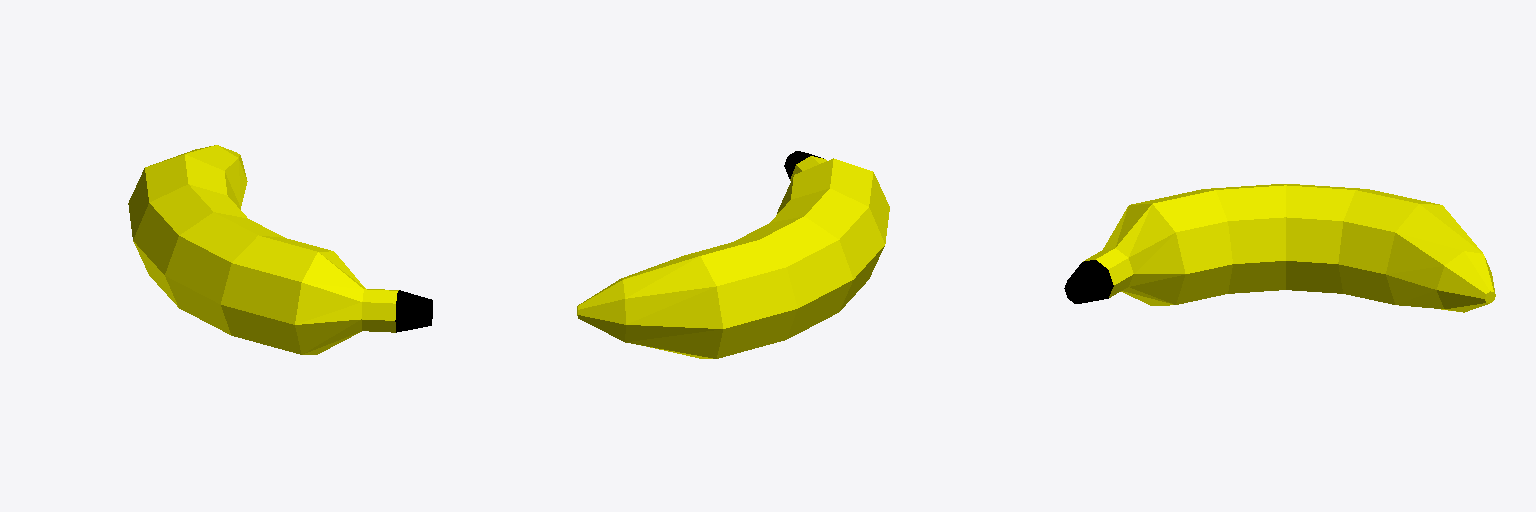
The model's file is Banana.obj.
The picture shows the model from 3 angles: view 1: azimuth 30°, elevation 25°; view 2: azimuth 150°, elevation 25°; view 3: azimuth 270°, elevation 25°; orthographic projection.
Visible parts, largest first — view 1: GuciBanan; view 2: GuciBanan; view 3: GuciBanan.
Part boxes in pixels (bbox=[...]): GuciBanan: bbox=[128, 145, 432, 354]; GuciBanan: bbox=[577, 151, 889, 358]; GuciBanan: bbox=[1064, 184, 1495, 312].
Size of the model in its own units: 0.3152 by 0.175 by 0.666.